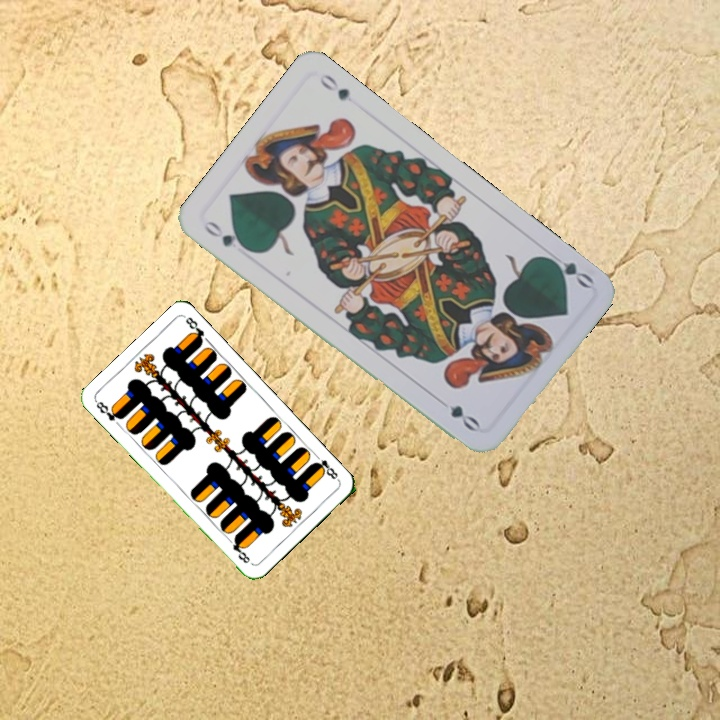E8: (309, 450, 342, 483), (92, 397, 125, 423)
GO: (541, 252, 596, 291), (199, 217, 252, 254)
